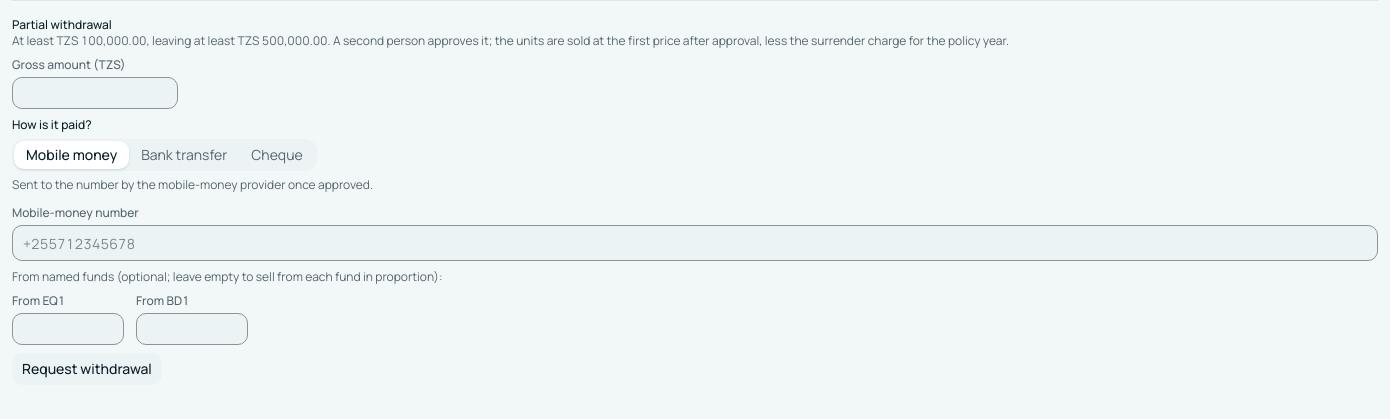
Test case: U2 panels show list-level refusals › refuses named amounts that do not total the withdrawal
The width and height of the screenshot is (1390, 419).
In the field labelled "Gross amount (TZS)": coordinates (95, 93) x1=12 y1=77 x2=178 y2=109, type "150000"
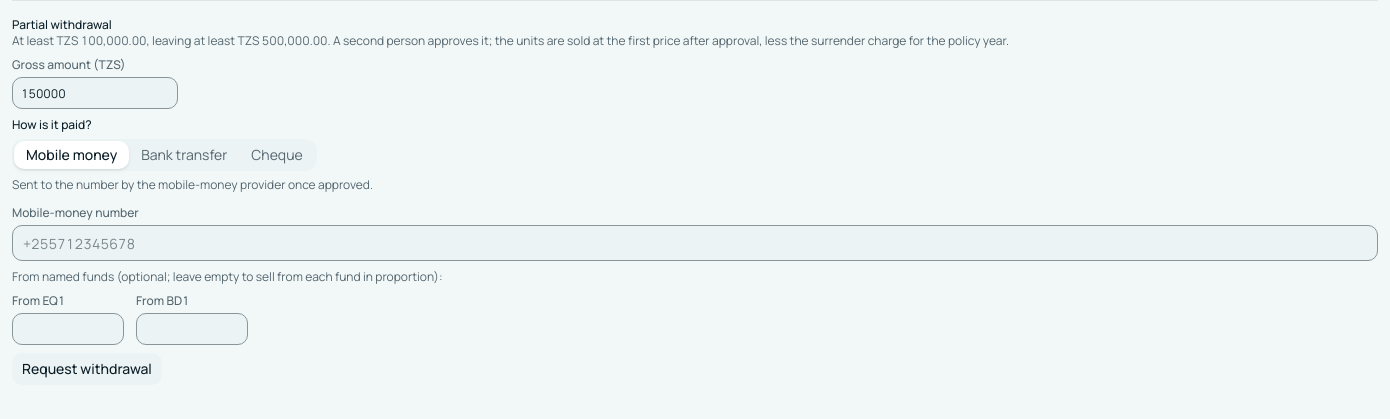
In the field labelled "Mobile-money number": coordinates (695, 243) x1=12 y1=225 x2=1378 y2=261, type "+255700000600"
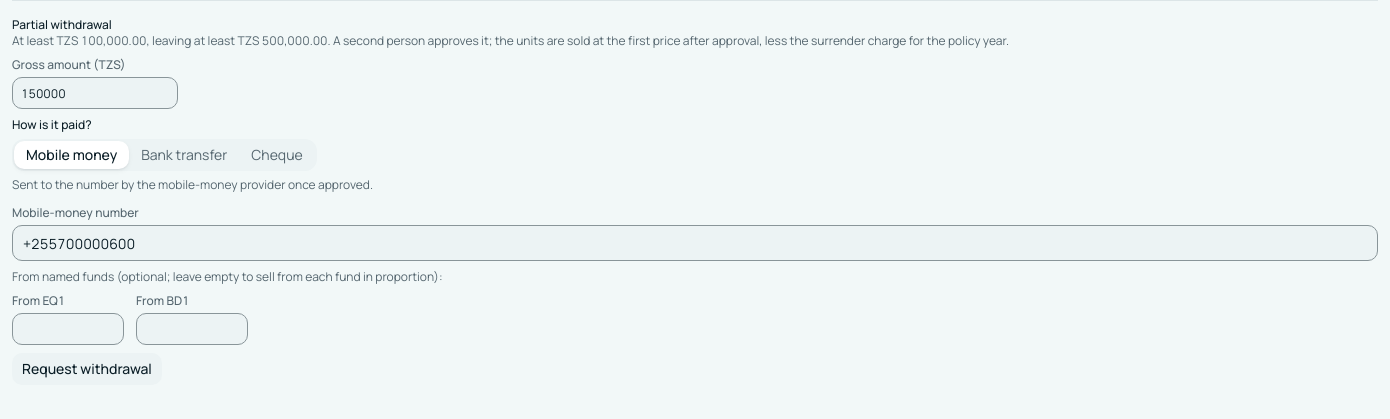
In the field labelled "From EQ1": coordinates (68, 329) x1=12 y1=313 x2=124 y2=345, type "100000"
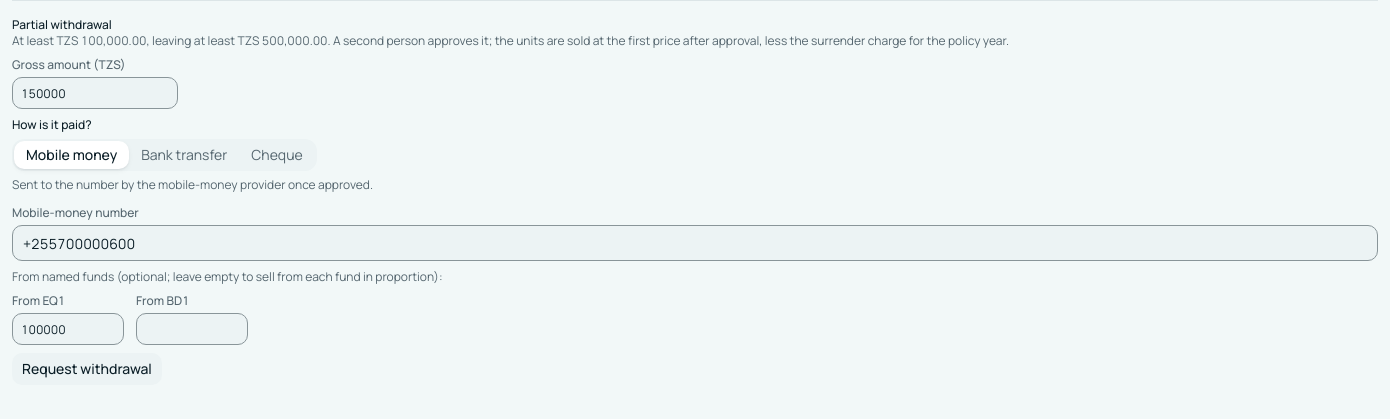
Click the button "Request withdrawal": coordinates (87, 369) x1=12 y1=353 x2=162 y2=385
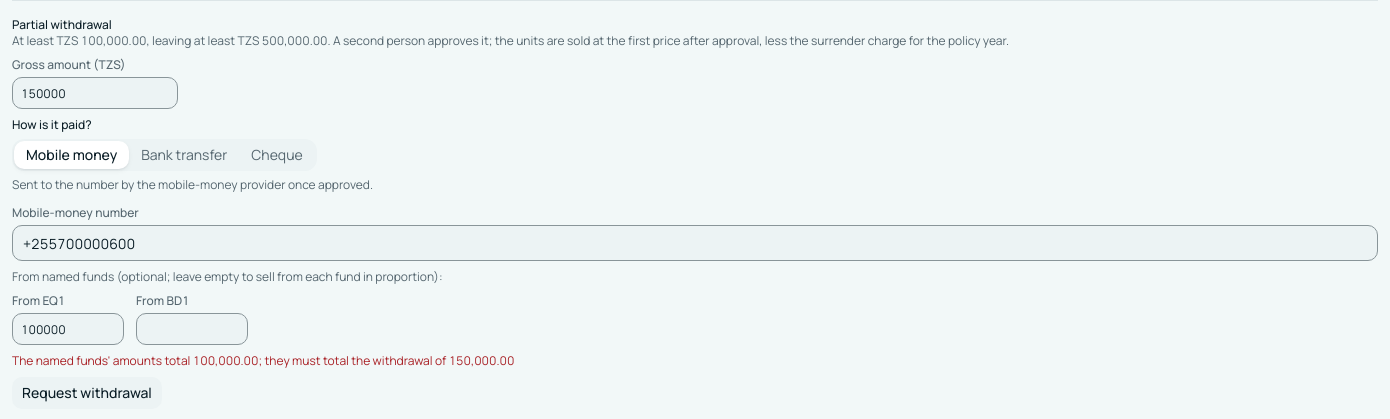
Now the message shows "The named funds' amounts total 100,000.00; they must total the withdrawal of 150,000.00", box x1=12 y1=352 x2=514 y2=369
